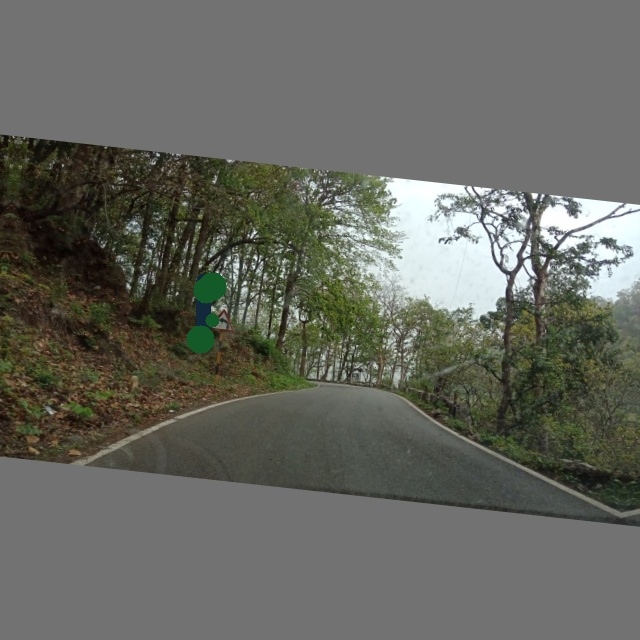Left_Hand_Curve: (208, 304, 236, 338)
